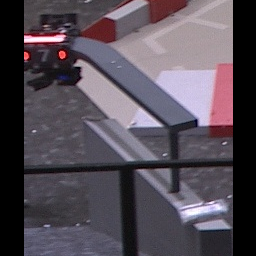Red: (24, 46, 67, 63)
Robot: (24, 13, 85, 89)
